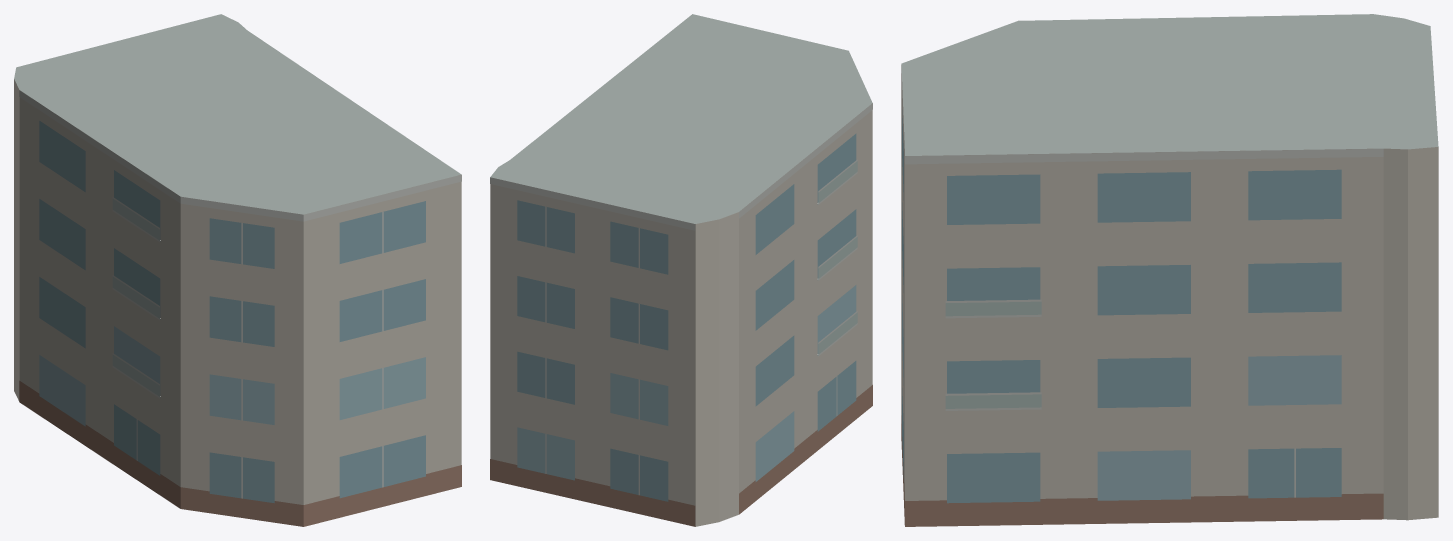
Rendered from survey-upis-32630472.glb.
3 views of the same model, side by side, from view 1: azimuth 30°, elevation 25°; view 2: azimuth 150°, elevation 25°; view 3: azimuth 270°, elevation 25° (orthographic). The views are drawn at different scales.
Parts seen in each view (by area): view 1: survey-upis-32630472.tmp; view 2: survey-upis-32630472.tmp; view 3: survey-upis-32630472.tmp.
Part boxes in pixels (x1,y1,x2,y2): survey-upis-32630472.tmp: [14, 14, 461, 526]; survey-upis-32630472.tmp: [490, 14, 872, 526]; survey-upis-32630472.tmp: [901, 14, 1438, 526].
Bounding box in the file's own units: 8.96 × 10.9 × 14.32.
